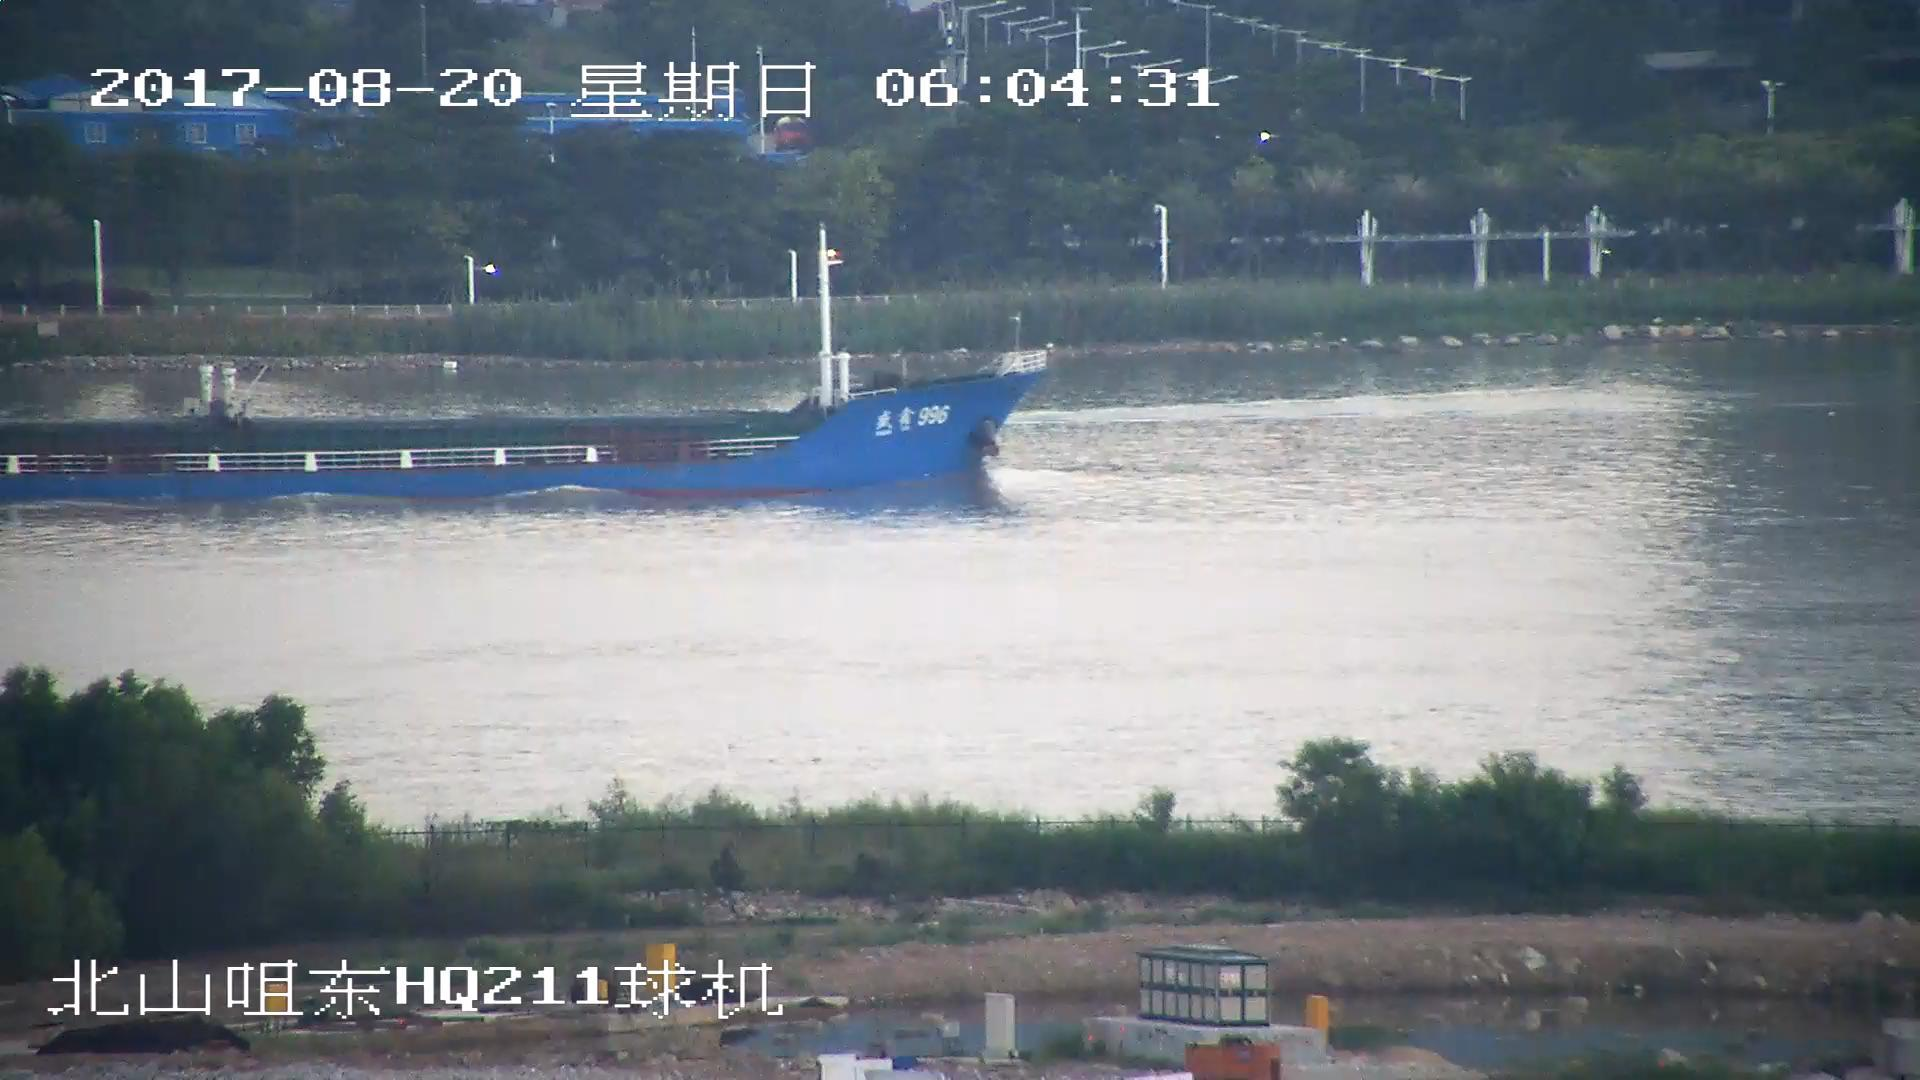Ship: (3, 264, 1030, 489)
